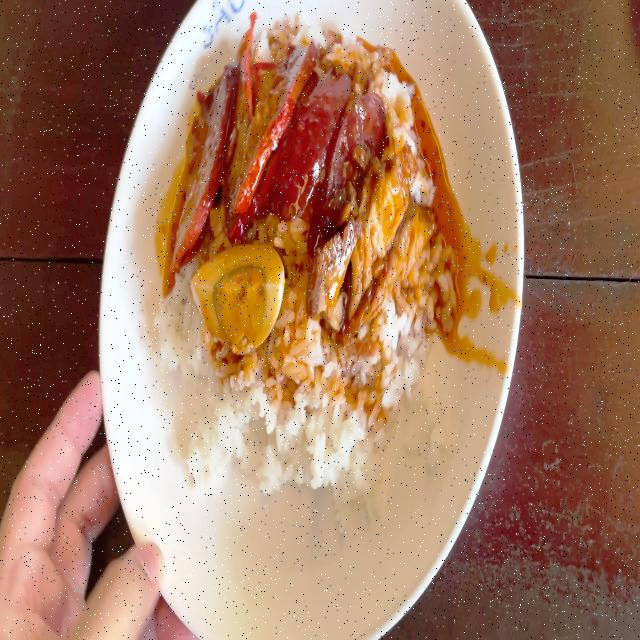boiled_egg: (191, 248, 284, 346)
chainese_sausage: (292, 70, 368, 218)
crispy_pork: (363, 161, 436, 300), (310, 236, 365, 336)
red_pork: (166, 56, 277, 232)
red_pork_and_crispy_pork: (156, 29, 440, 493)
rice: (196, 352, 378, 479), (367, 302, 429, 422), (163, 282, 201, 370)
